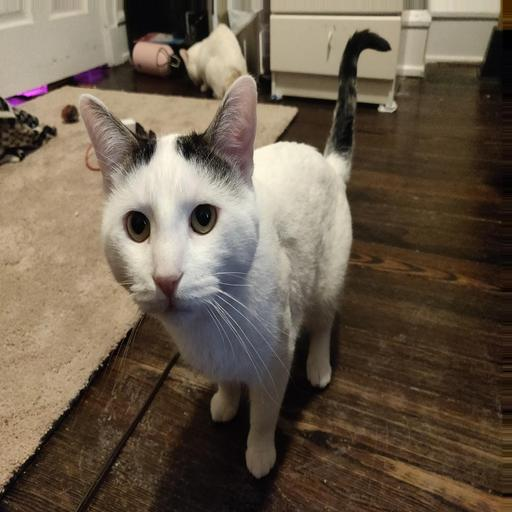cat: (74, 69, 352, 347)
